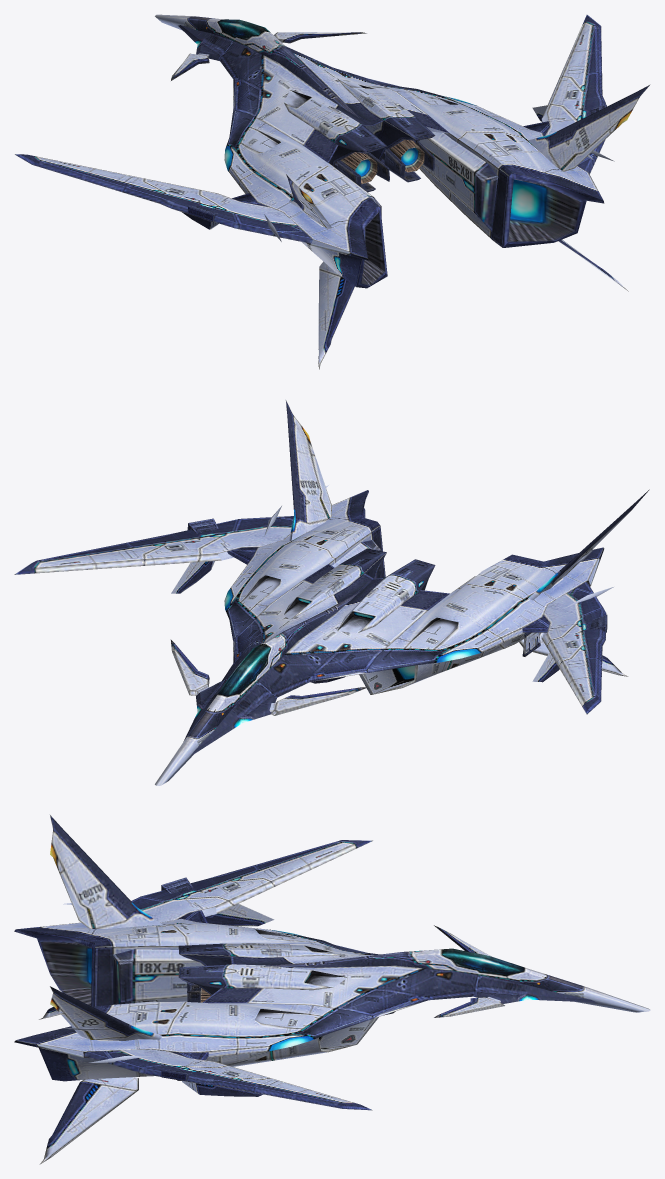
File: sentinela.glb
3 renders of one model, top to bottom at view 1: azimuth 30°, elevation 25°; view 2: azimuth 150°, elevation 25°; view 3: azimuth 270°, elevation 25°, orthographic. The views are drawn at different scales.
Visible parts, largest first — view 1: Object_2; view 2: Object_2; view 3: Object_2.
Boxes of the visible parts, x1,y1,x2,y2 form: Object_2: (15, 14, 650, 369); Object_2: (14, 399, 649, 785); Object_2: (14, 814, 650, 1164).
Bounding box in the file's own units: 30.94 × 10.31 × 30.89.
Materials: 1 (1 with a texture image).
